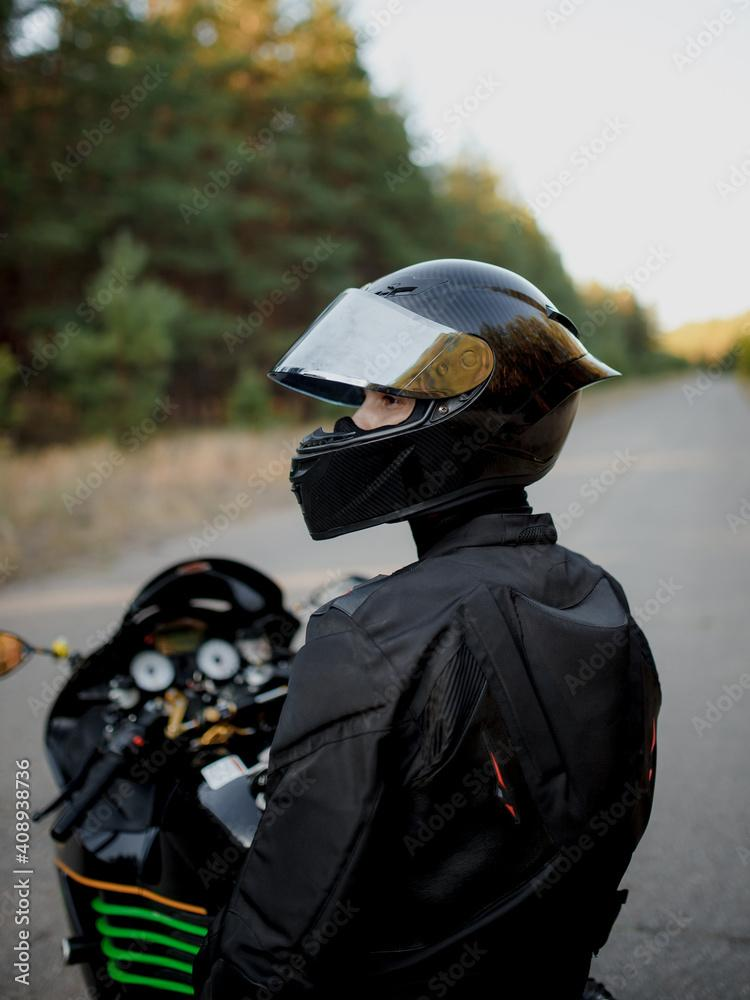helmet: (265, 255, 625, 544)
